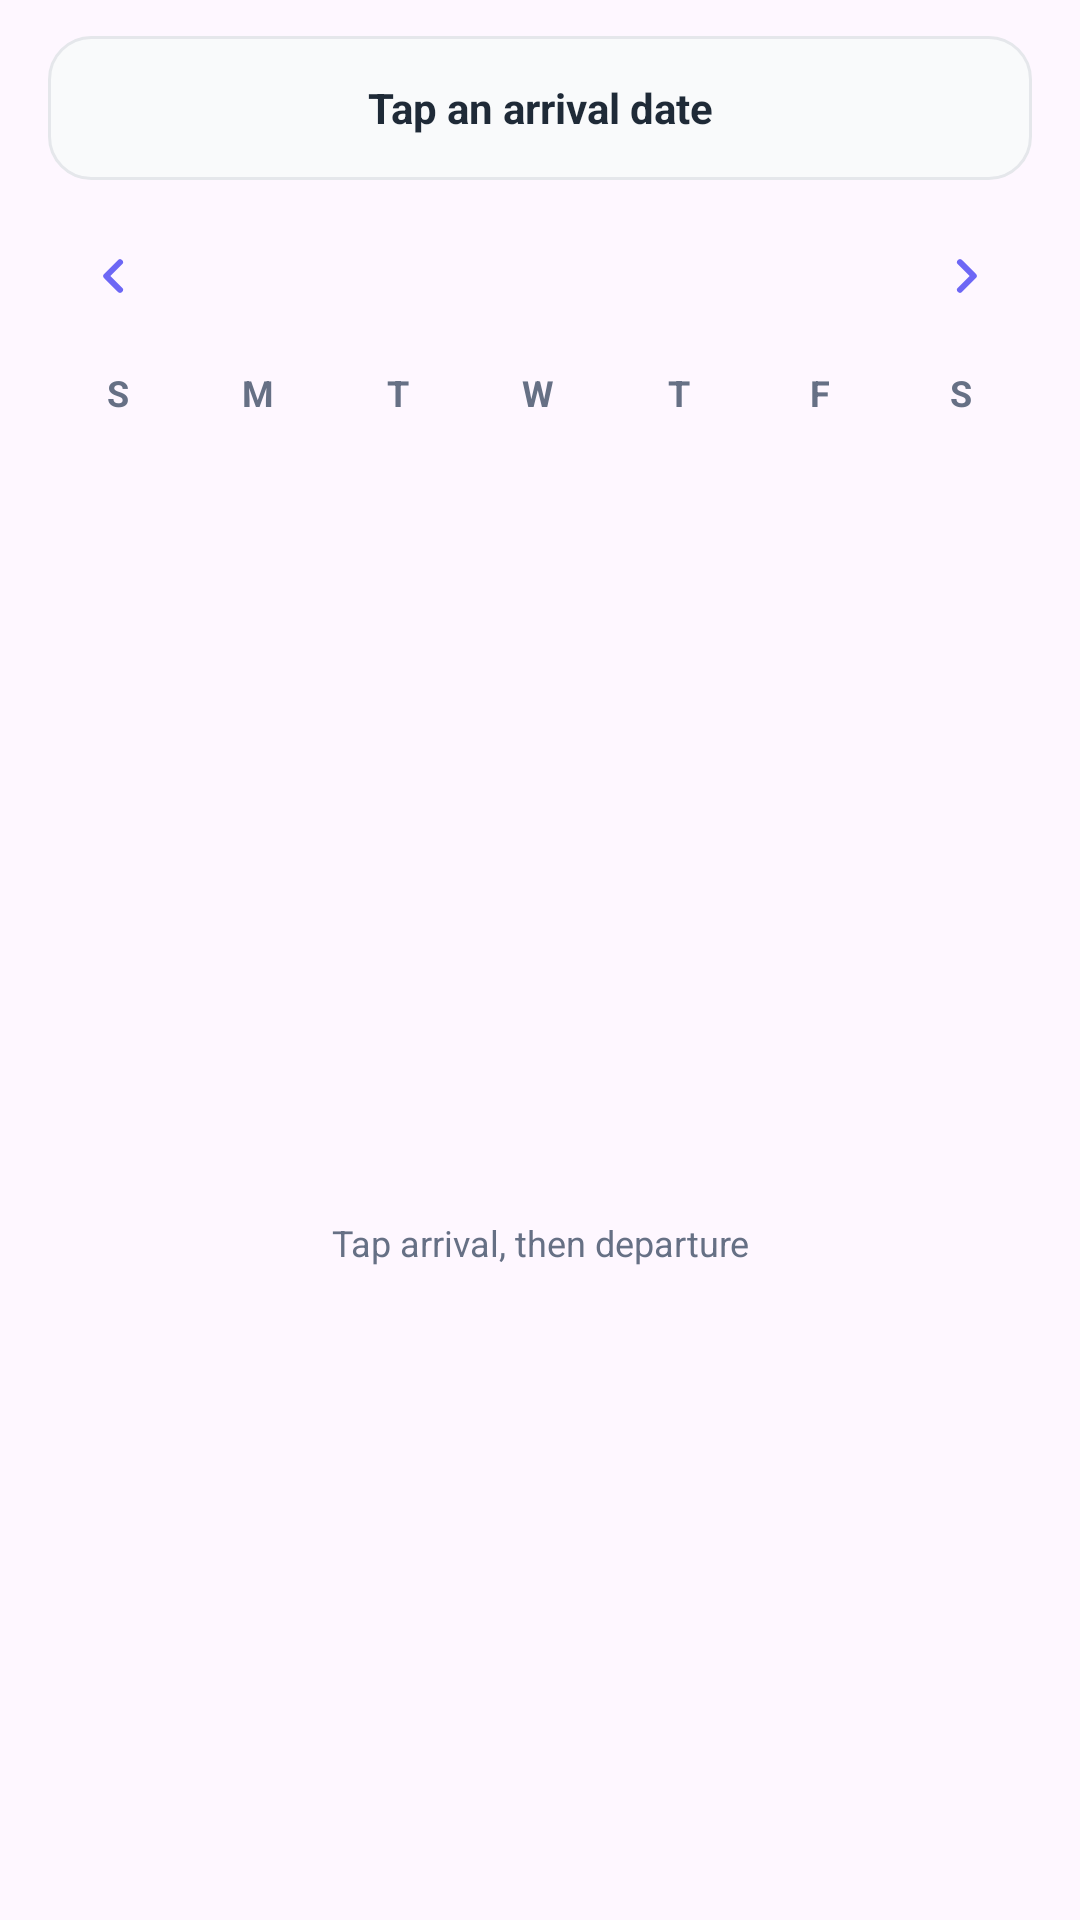

Where to tap for icons on this 1080×1920 app screen, as [x,y]:
Next month: [967,276]
